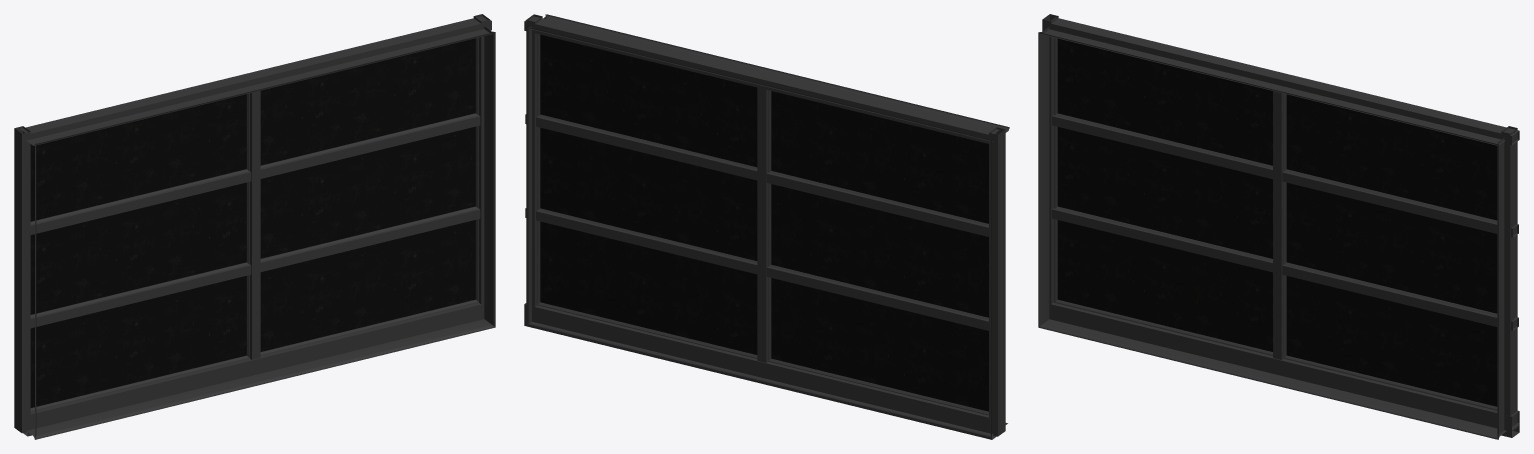
The model's file is window_02.FBX.
3 renders of one model, left to right at view 1: azimuth 30°, elevation 25°; view 2: azimuth 150°, elevation 25°; view 3: azimuth 330°, elevation 25°, orthographic.
Visible parts, largest first — view 1: window_02; view 2: window_02; view 3: window_02.
Part boxes in pixels (x1,y1,x2,y2): window_02: (14,14,495,439); window_02: (524,14,1009,439); window_02: (1038,14,1519,439).
Size of what is drawn, in the model's own units: 369 by 23.68 by 228.
